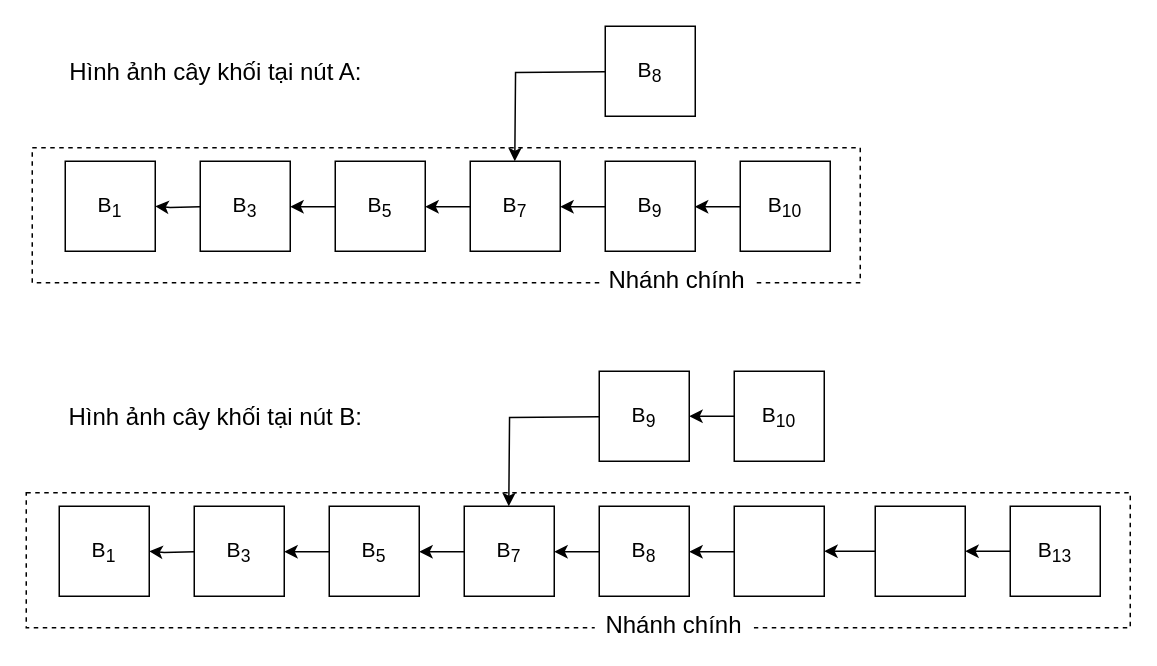
Image size: 1157x666. Some labels were removed from this diagram. Here are the shapes that lost their labels. From the top down, the box of each, then its label:
(733, 505, 824, 596): B 11
(874, 505, 965, 596): B 12
